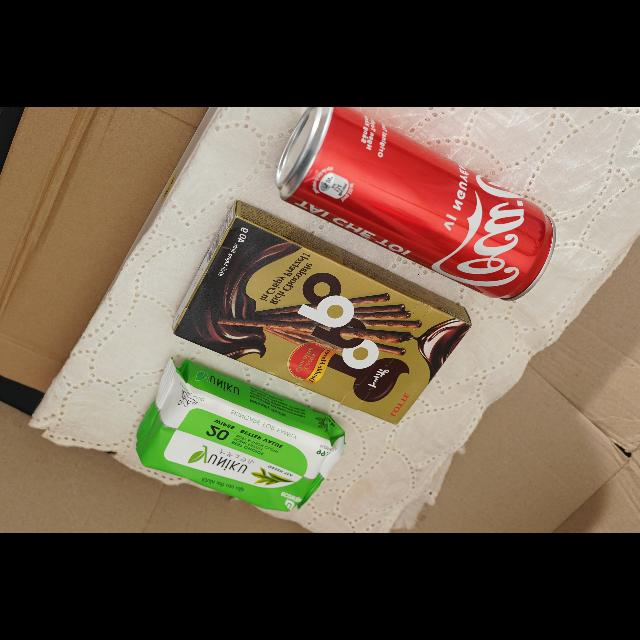banh_toppo_socola: (172, 201, 471, 424)
coca_cola: (276, 108, 556, 300)
khan_giay: (136, 360, 345, 512)
